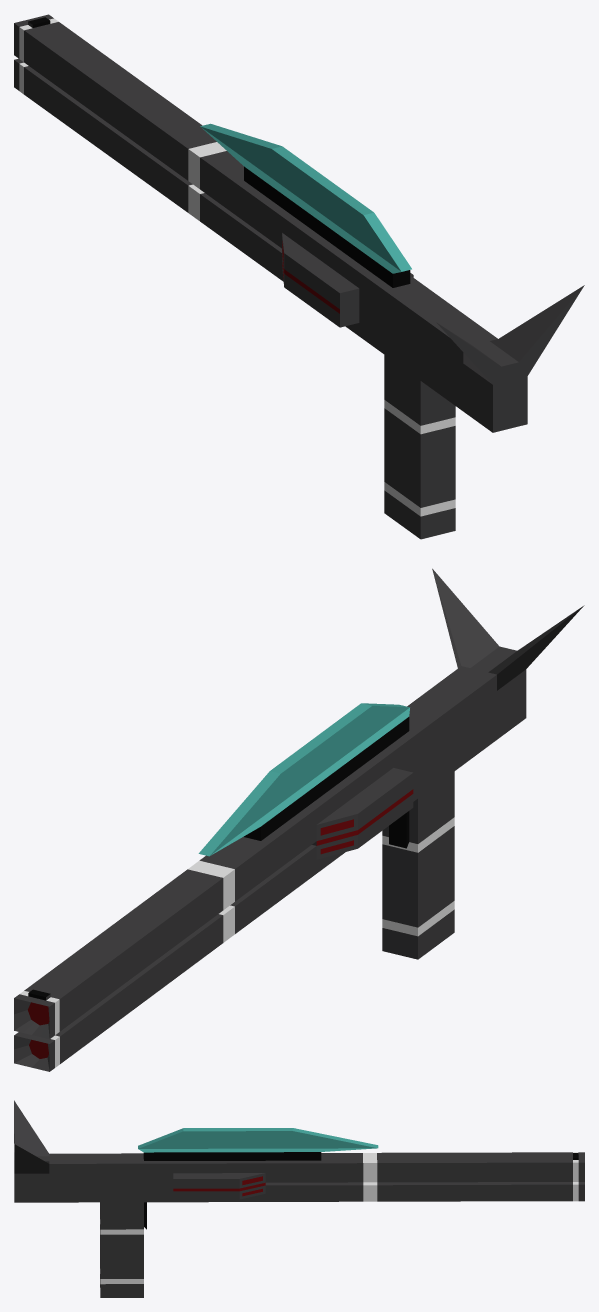
Rendered from Minigun.fbx.
The picture shows the model from 3 angles, top to bottom: view 1: azimuth 30°, elevation 25°; view 2: azimuth 150°, elevation 25°; view 3: azimuth 270°, elevation 25°; orthographic projection. The views are drawn at different scales.
Parts seen in each view (by area): view 1: Pulse Rifle; view 2: Pulse Rifle; view 3: Pulse Rifle.
Part boxes in pixels (x1=…): Pulse Rifle: x1=14, y1=14, x2=584, y2=539; Pulse Rifle: x1=14, y1=568, x2=584, y2=1071; Pulse Rifle: x1=14, y1=1100, x2=584, y2=1297.
Size of the model in its own units: 19.29 by 34.91 by 106.
